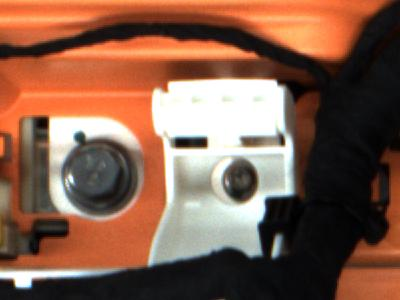nut_b: (54, 135, 142, 216)
